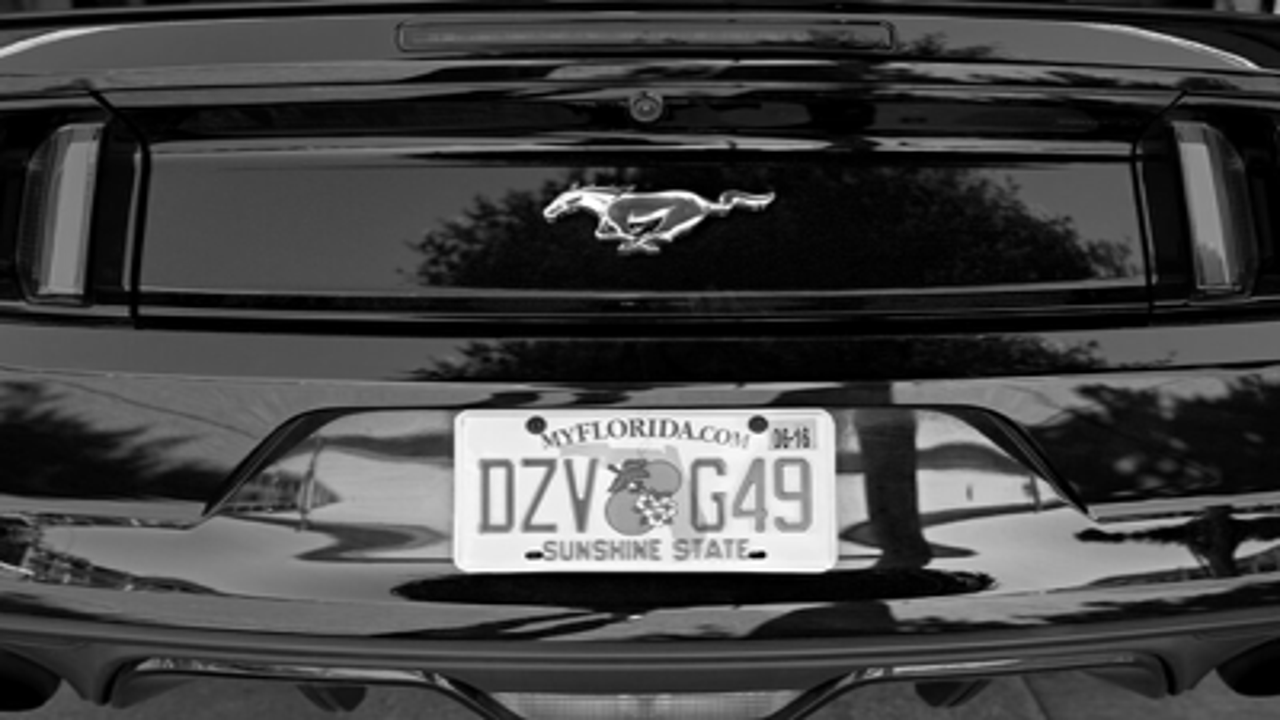license: (447, 402, 847, 586)
